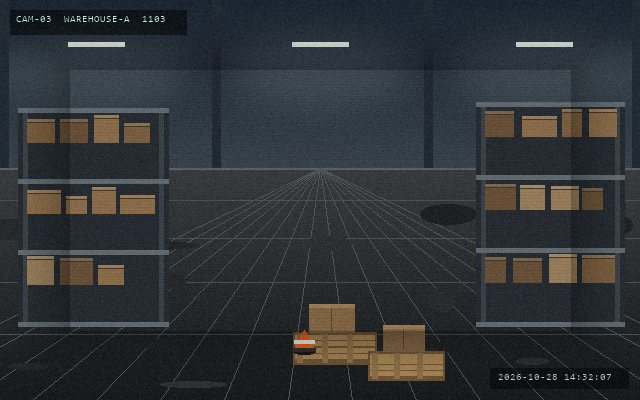cone: (292, 328, 316, 354)
pallet: (291, 330, 378, 366), (366, 349, 446, 382)
shelf: (476, 102, 624, 322), (18, 108, 168, 322)
